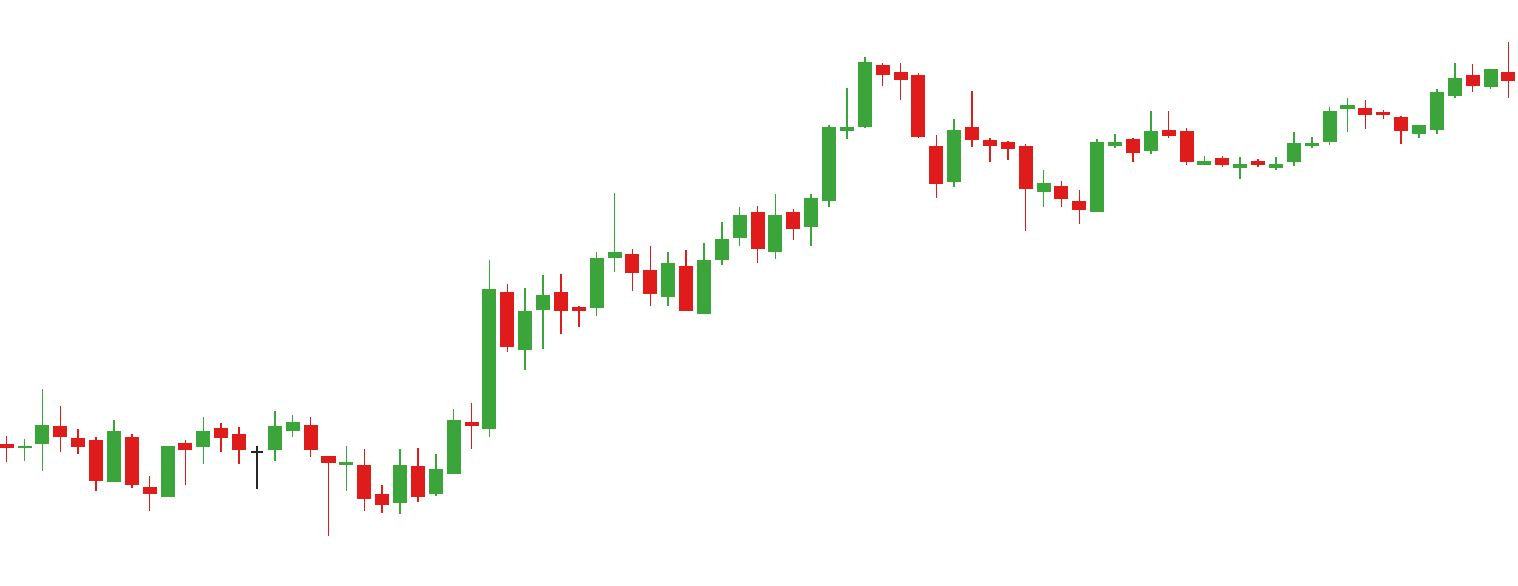buy: (142, 443, 335, 533)
